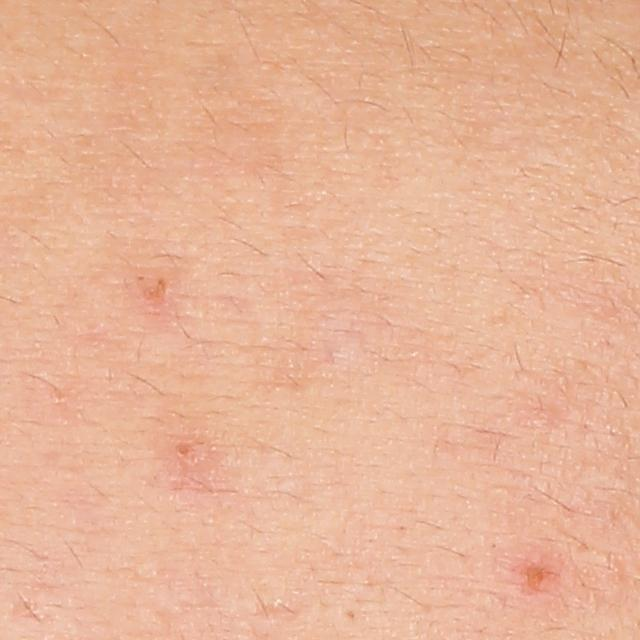papule: (515, 556, 553, 592), (169, 439, 202, 473)
